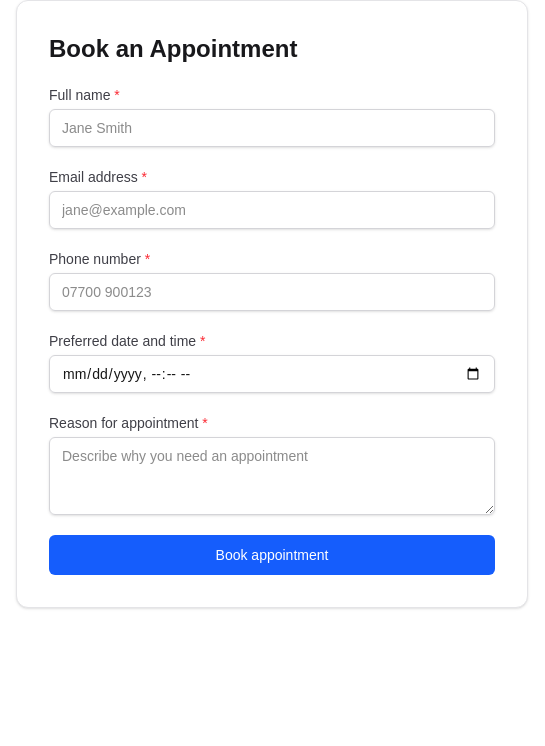
Test: BookingForm › validation › shows phone format error for too-short number
Type "123" into the field labelled "Phone number *" at {"x": 272, "y": 292}, box [49,273,495,311]
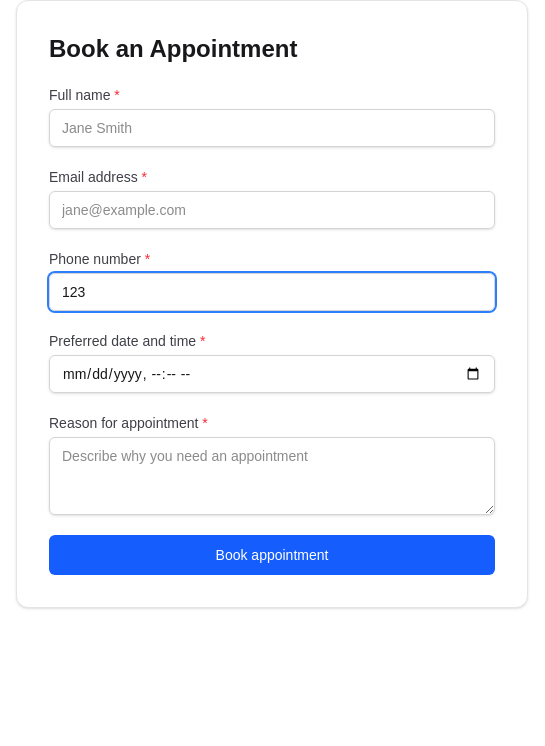
Click the button "Book appointment" at {"x": 272, "y": 555}, box [49,535,495,575]
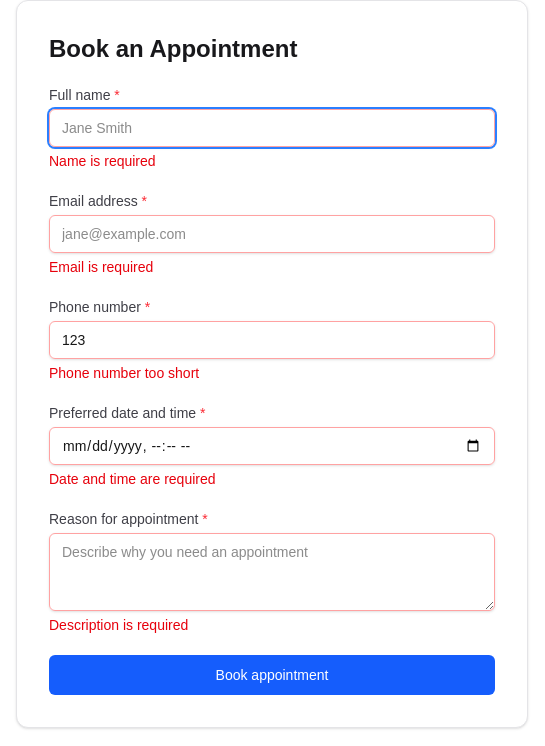
Expected: the text "Phone number too short" is shown, [49,365,199,381]
